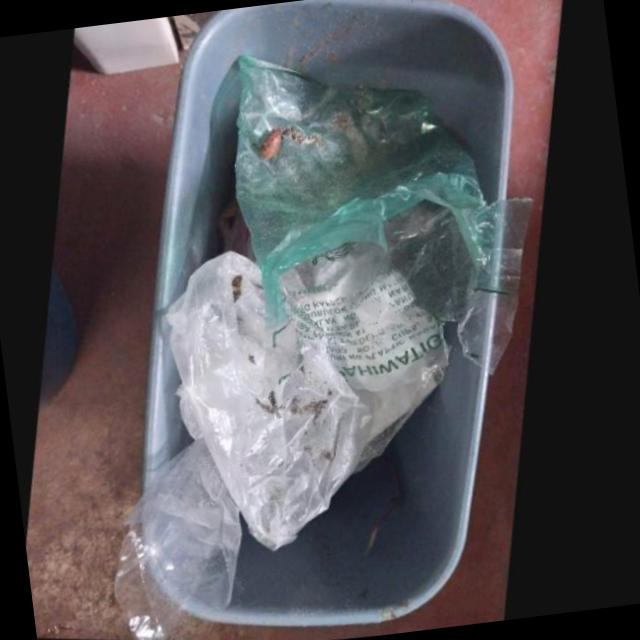tui_ni_long: (241, 52, 536, 392), (169, 255, 456, 548), (127, 437, 251, 640)
